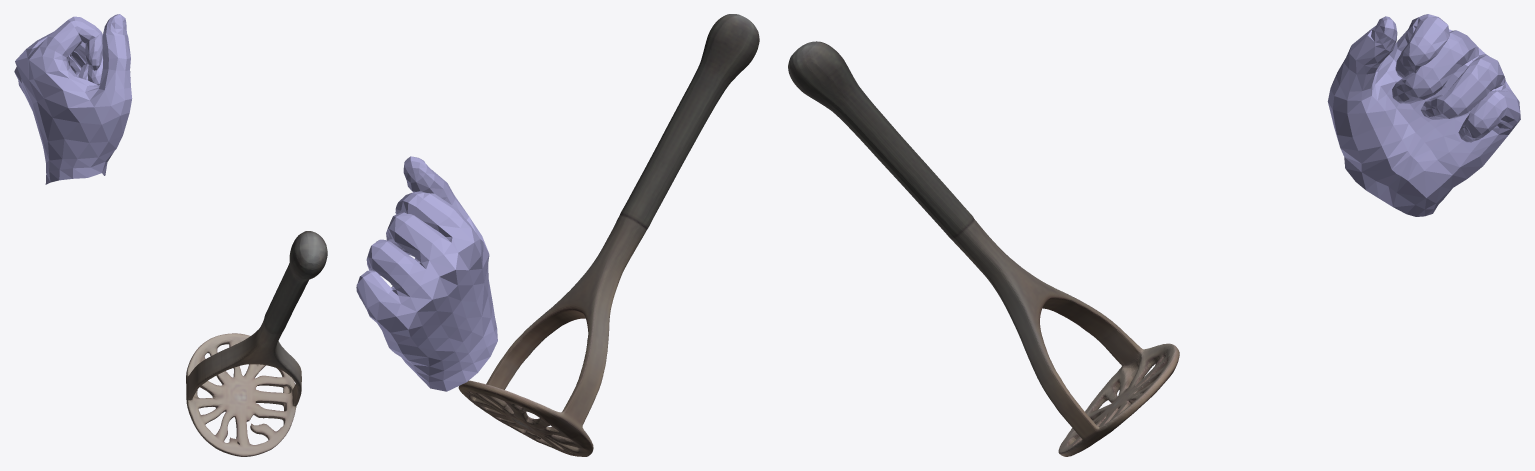
The model's file is frame_0047_source_000047_hand_object.glb.
The picture shows the model from 3 angles, left to right: view 1: azimuth 30°, elevation 25°; view 2: azimuth 150°, elevation 25°; view 3: azimuth 270°, elevation 25°; orthographic projection. The views are drawn at different scales.
Parts seen in each view (by area): view 1: world; view 2: world; view 3: world.
Boxes of the visible parts, left/top/right/bottom form: world: left=14, top=14, right=327, bottom=456; world: left=356, top=14, right=759, bottom=456; world: left=788, top=14, right=1520, bottom=456.
Bounding box in the file's own units: 0.0993 × 0.2441 × 0.3788.
